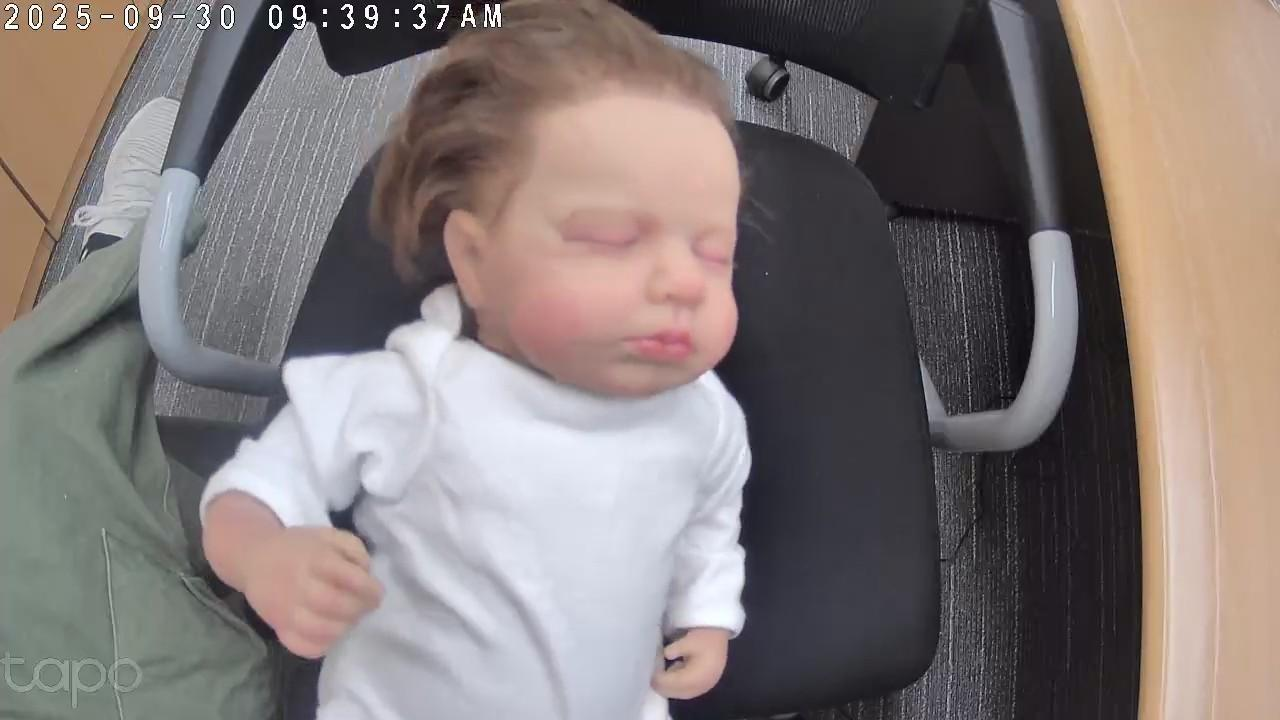hand: (267, 526, 384, 661), (652, 631, 730, 699)
